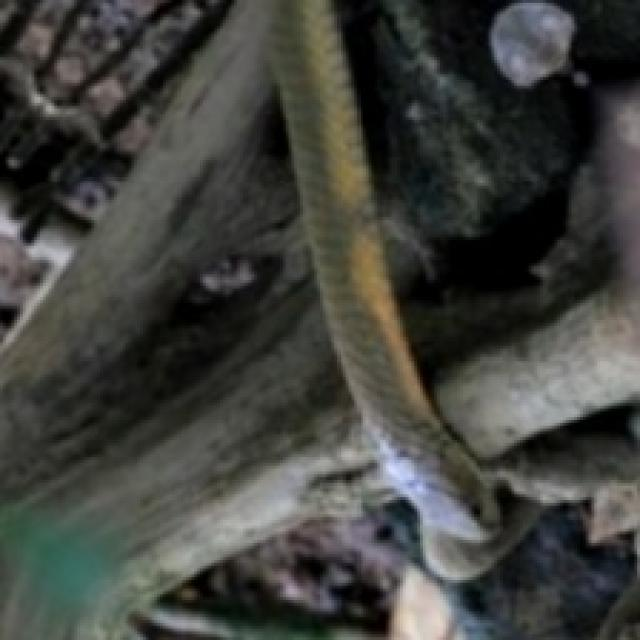king cobra: (271, 0, 500, 539)
